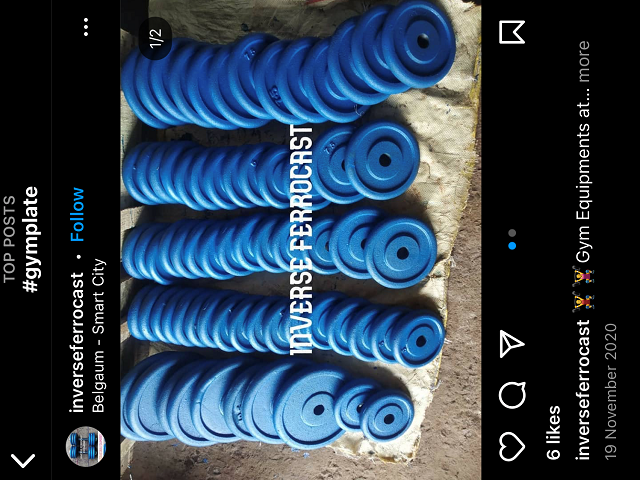weights: (272, 367, 351, 452), (383, 4, 458, 91), (345, 123, 421, 201), (363, 213, 439, 291), (306, 124, 363, 206), (329, 207, 385, 281), (390, 306, 447, 369), (358, 389, 415, 442)
